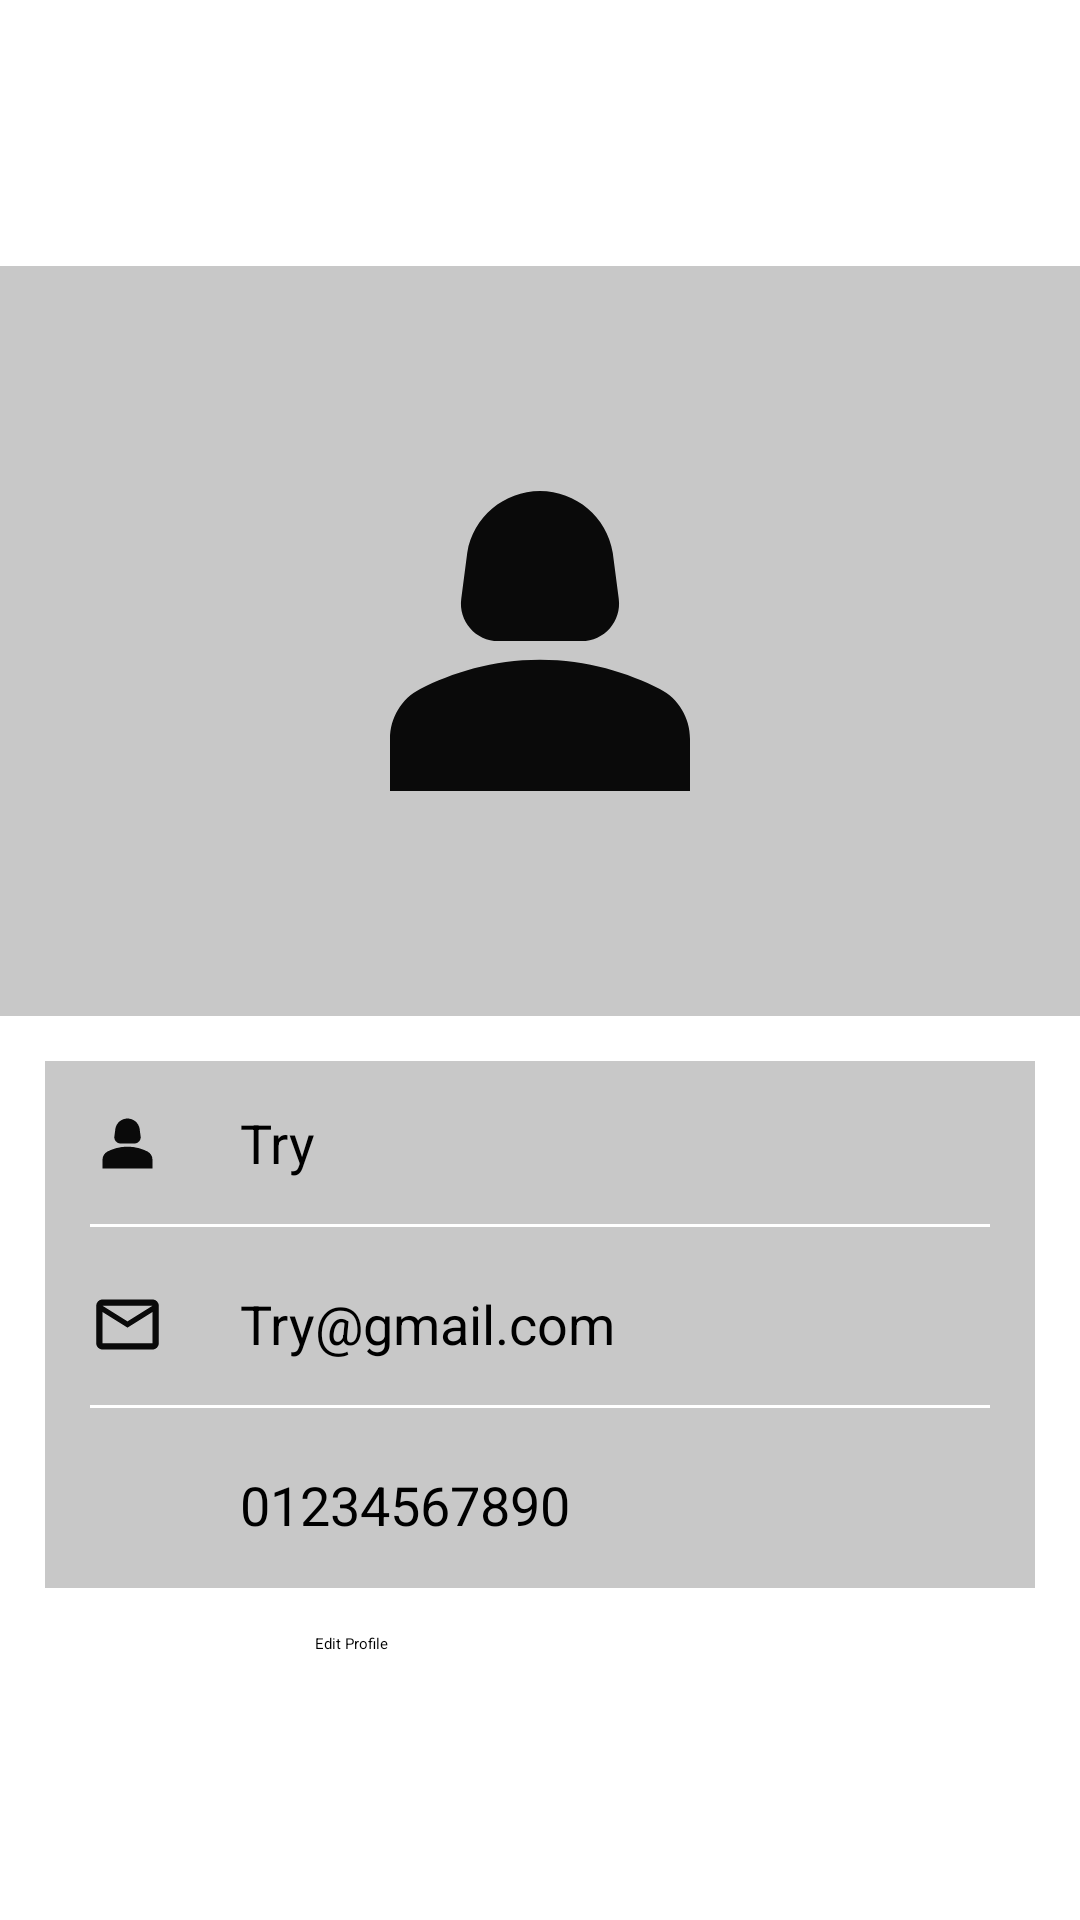

Icons on this 1080w x 1920h Android screen, each with the point to tap as point (x, y):
person: point (540, 641), point (127, 1143)
